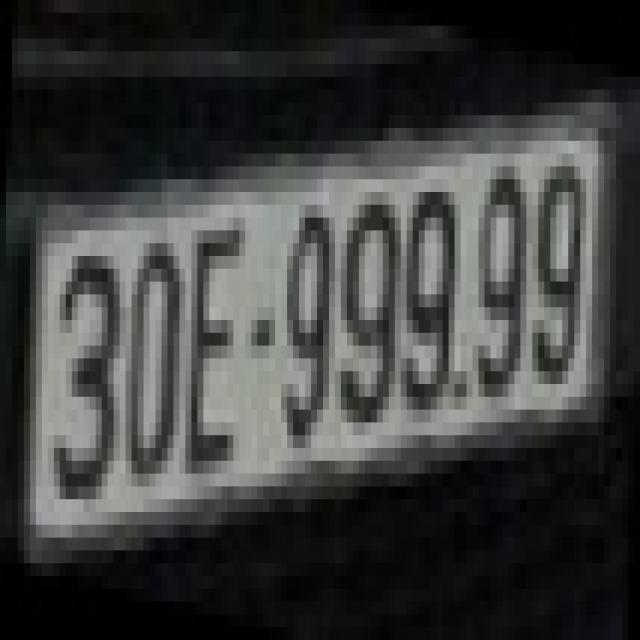0: (126, 230, 180, 487)
3: (48, 243, 120, 499)
9: (281, 192, 335, 448), (400, 179, 454, 410), (532, 153, 586, 384), (472, 166, 526, 397), (341, 192, 395, 422)
E: (186, 217, 246, 473)
